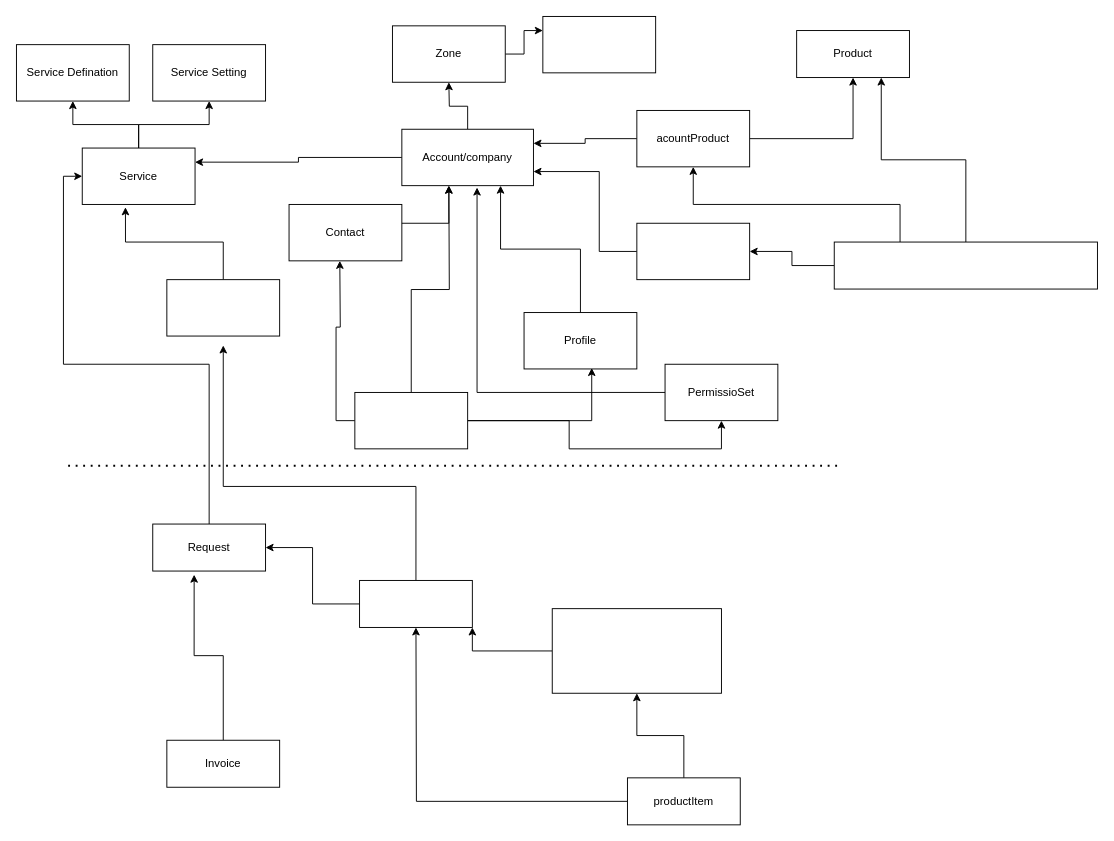
Image size: 1114x841. Some labels were removed from this diagram. The box of each missing label's shape, as (x1, y1, x2, y2) in pixels:
branch: (636, 222, 750, 280)
Cart: (551, 608, 721, 693)
PRODUCTLINEITEM: (833, 241, 1097, 289)
RequestItem: (359, 580, 472, 627)
ServiceItem: (166, 279, 280, 336)
Tax: (542, 16, 656, 73)
User/Staff: (354, 392, 468, 449)
